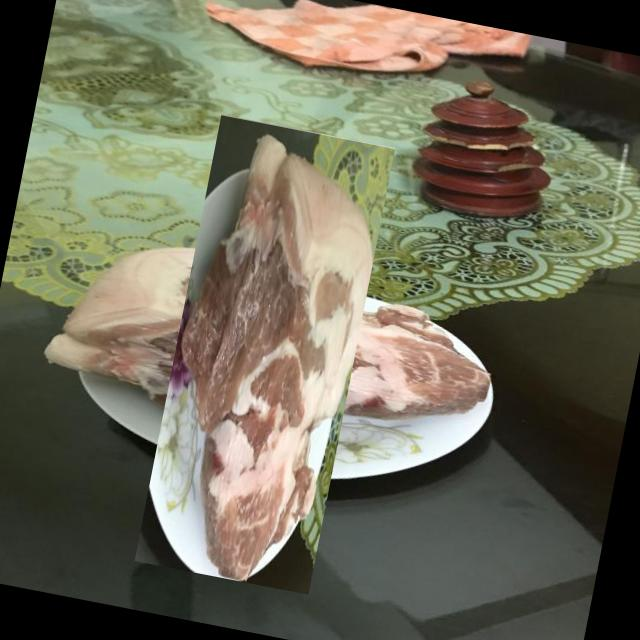chicken: (80, 169, 450, 540)
